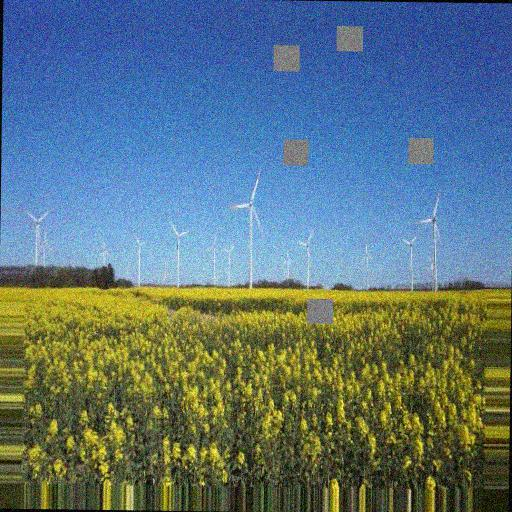wind turbine: (229, 171, 262, 287), (415, 192, 443, 287), (23, 206, 50, 265), (167, 222, 190, 282)
